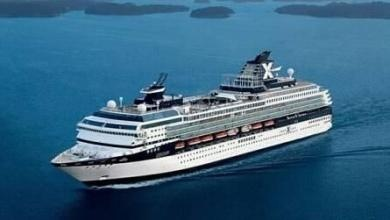youlun: (46, 51, 334, 188)
